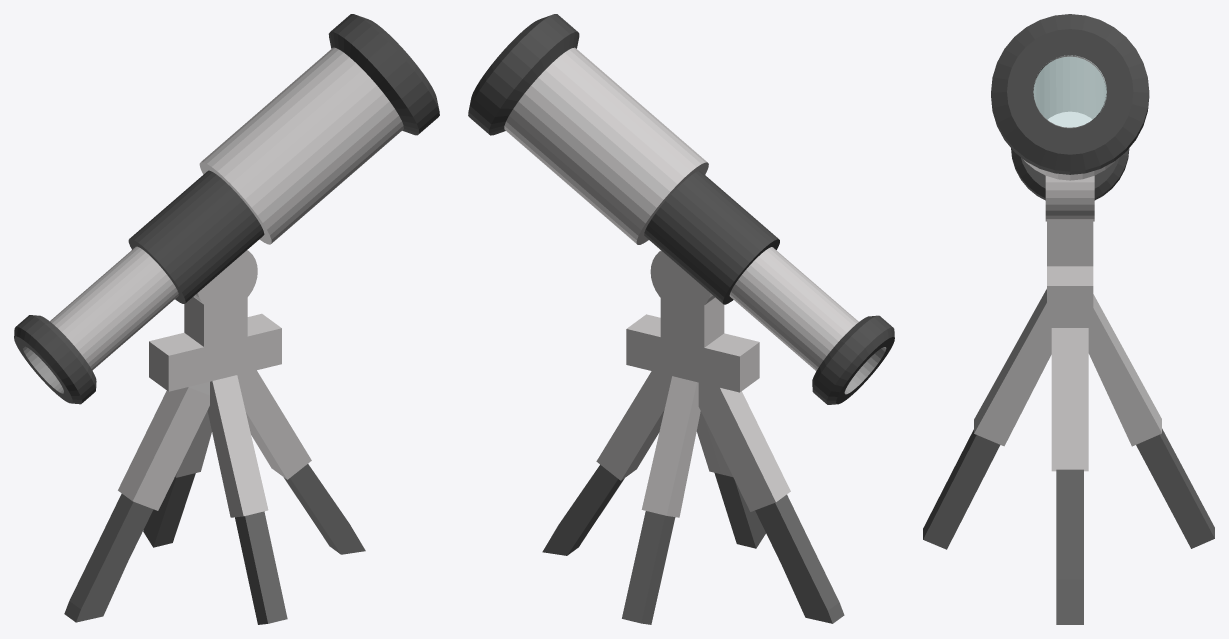
The picture shows the model from 3 angles, left to right: view 1: azimuth 30°, elevation 25°; view 2: azimuth 150°, elevation 25°; view 3: azimuth 270°, elevation 25°; orthographic projection. The views are drawn at different scales.
Visible parts, largest first — view 1: Group; view 2: Group; view 3: Group, Lente Frontal.
Part boxes in pixels (left/top/right/bottom): Group: left=14, top=14, right=439, bottom=624; Group: left=468, top=14, right=894, bottom=624; Group: left=923, top=14, right=1214, bottom=624; Lente Frontal: left=1033, top=55, right=1106, bottom=127.
Size of the model in its own units: 6.01 by 7.55 by 3.25.
